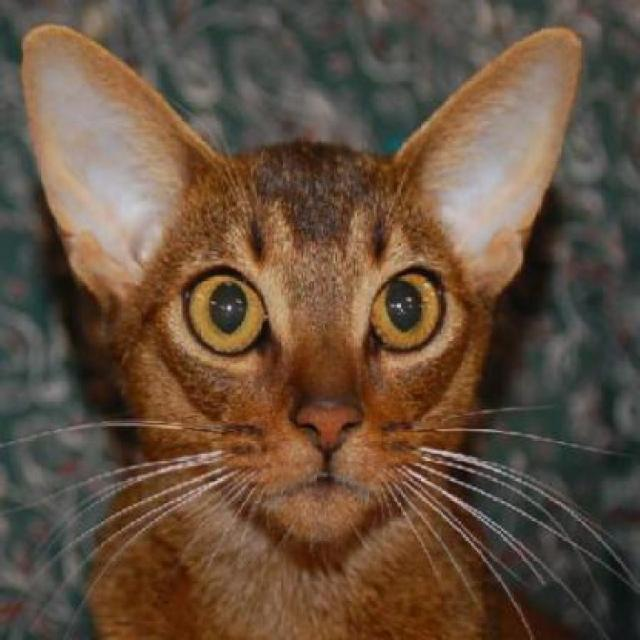cat: (22, 23, 581, 639)
